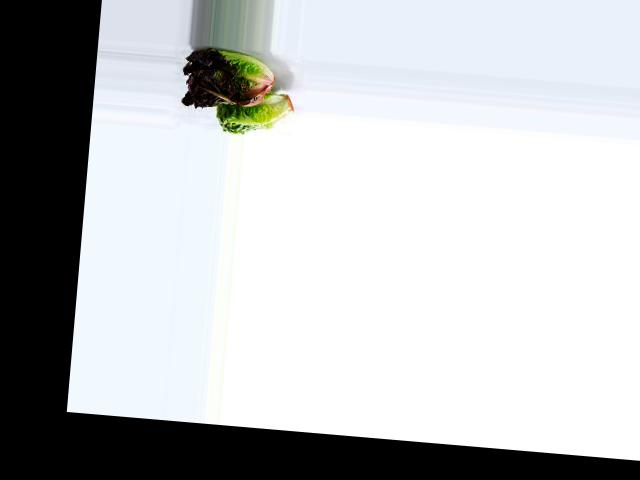lettuce: (213, 85, 297, 139)
